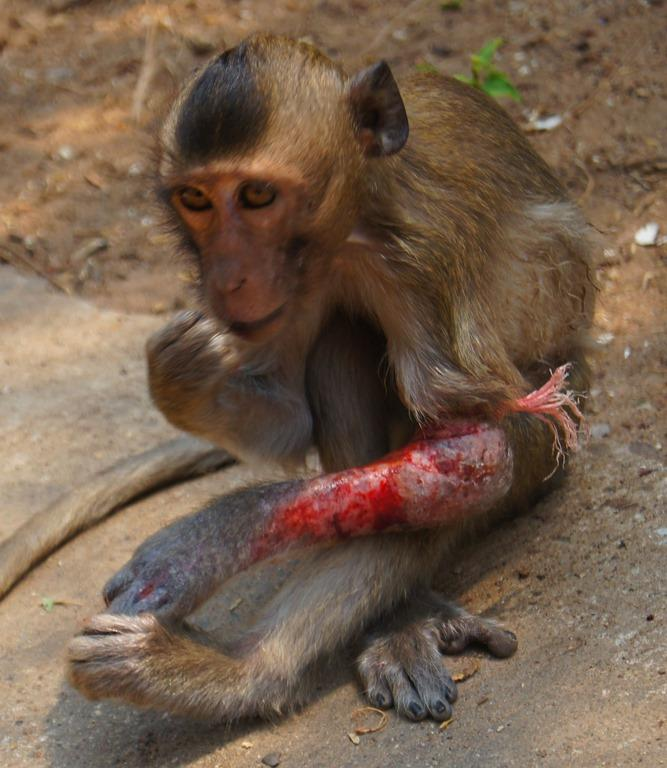bleeding: (252, 437, 484, 547)
